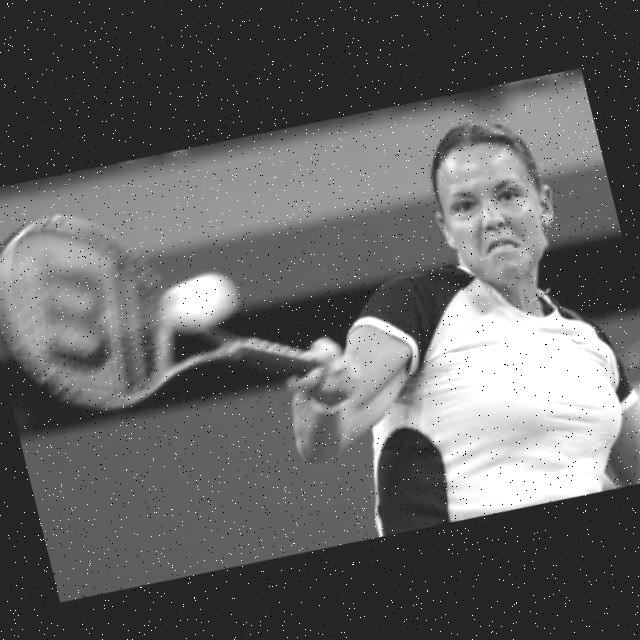face: (415, 131, 574, 297)
